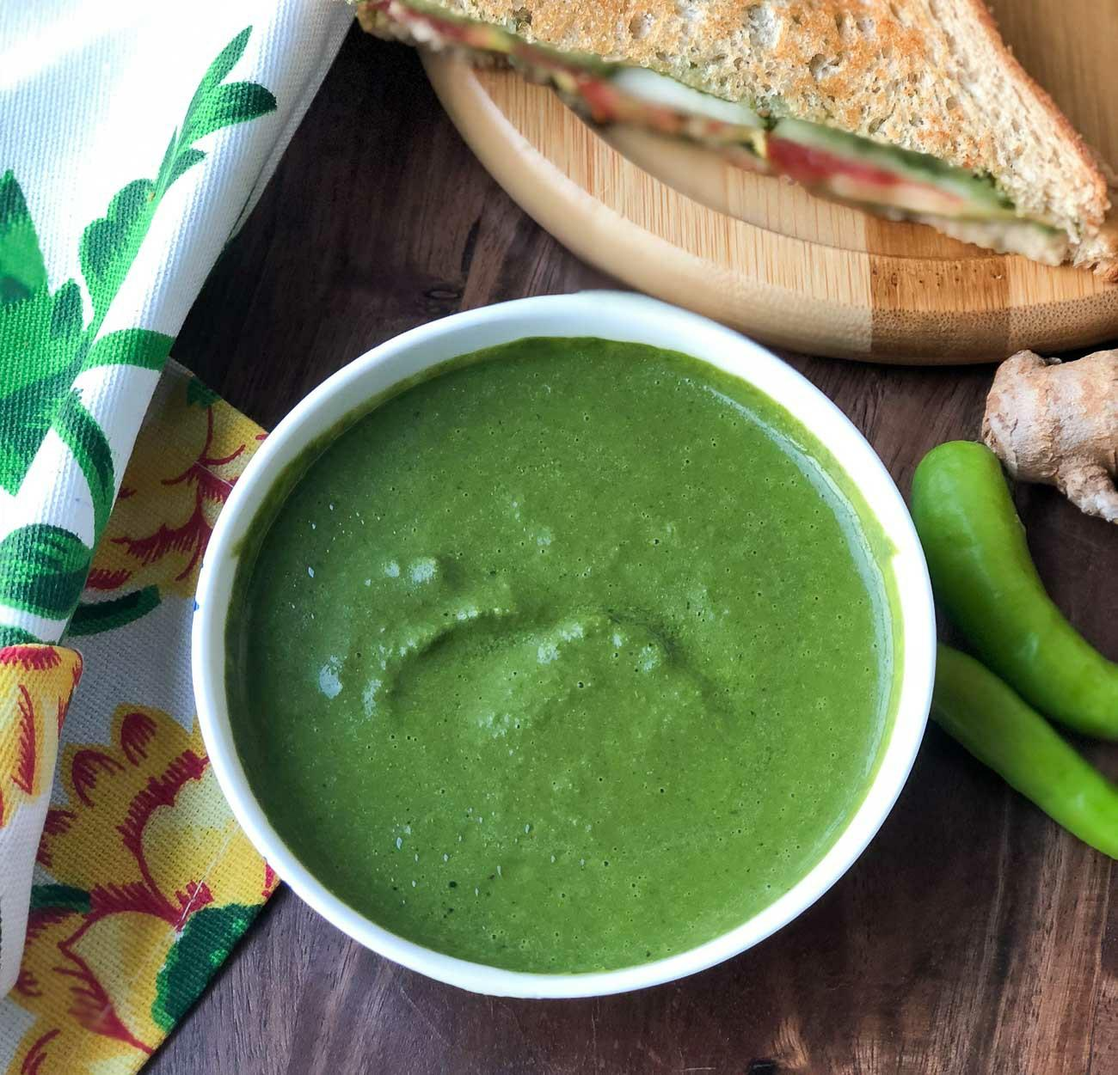GreenChutney: (233, 342, 886, 972)
